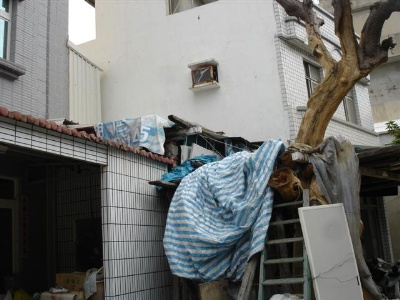plastic_bag: (162, 137, 285, 281), (289, 136, 362, 206)
